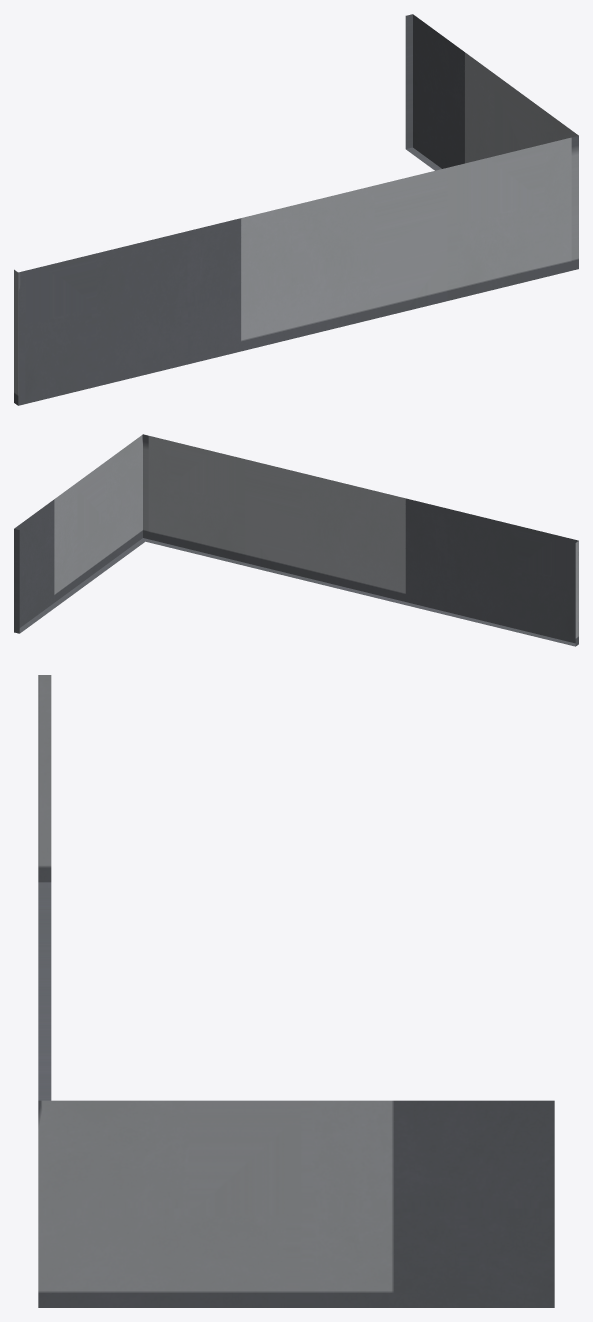
File: BgMD_Tanihira_Wall2_0801.fbx
3 renders of one model, top to bottom at view 1: azimuth 30°, elevation 25°; view 2: azimuth 150°, elevation 25°; view 3: azimuth 270°, elevation 25°, orthographic. The views are drawn at different scales.
Visible parts, largest first — view 1: polySurface180; view 2: polySurface180; view 3: polySurface180.
Part boxes in pixels (x1,y1,x2,y2): polySurface180: [14, 14, 578, 405]; polySurface180: [14, 434, 578, 646]; polySurface180: [38, 675, 554, 1307].
Size of the model in its own units: 1540 by 350 by 790.
